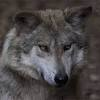Lobo: (2, 2, 93, 96)
